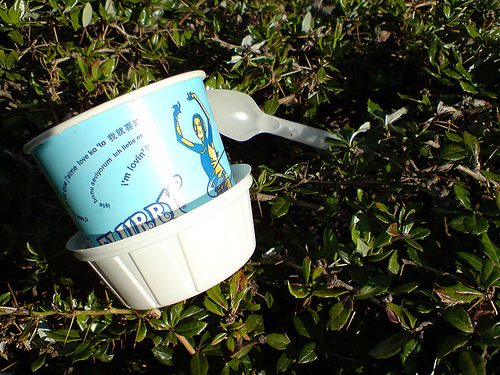litter: (23, 71, 256, 309), (197, 88, 349, 150)
